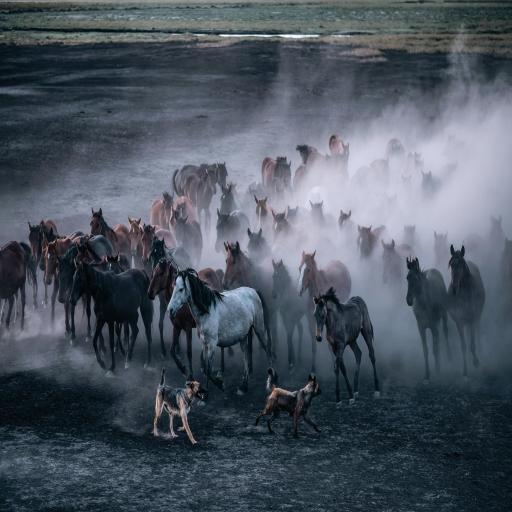horse: (168, 269, 272, 399), (71, 263, 153, 375), (314, 287, 379, 408), (298, 252, 351, 371), (223, 242, 278, 349), (407, 258, 451, 383), (448, 245, 485, 376), (272, 260, 306, 374), (0, 241, 36, 329), (43, 238, 72, 325), (184, 167, 216, 234), (173, 162, 227, 196), (170, 304, 196, 374), (91, 209, 131, 254), (306, 145, 349, 182), (215, 210, 250, 252), (382, 239, 415, 283), (142, 225, 177, 266), (174, 217, 202, 265), (29, 219, 57, 265), (151, 237, 191, 268), (172, 163, 208, 197), (58, 243, 78, 303), (262, 157, 292, 194), (169, 197, 197, 231), (357, 226, 385, 259), (273, 211, 297, 247), (243, 181, 268, 214), (150, 192, 173, 227), (500, 239, 511, 311), (248, 229, 271, 263), (128, 217, 142, 267), (254, 195, 272, 233), (310, 201, 335, 228), (221, 184, 243, 213), (159, 293, 168, 356), (489, 215, 505, 250), (434, 231, 449, 267), (369, 158, 389, 185), (385, 139, 405, 165), (293, 164, 308, 196), (422, 171, 441, 196), (286, 206, 310, 225), (403, 153, 424, 174), (296, 144, 317, 165), (329, 135, 349, 155), (338, 210, 354, 234), (214, 162, 228, 186), (403, 225, 415, 246)
